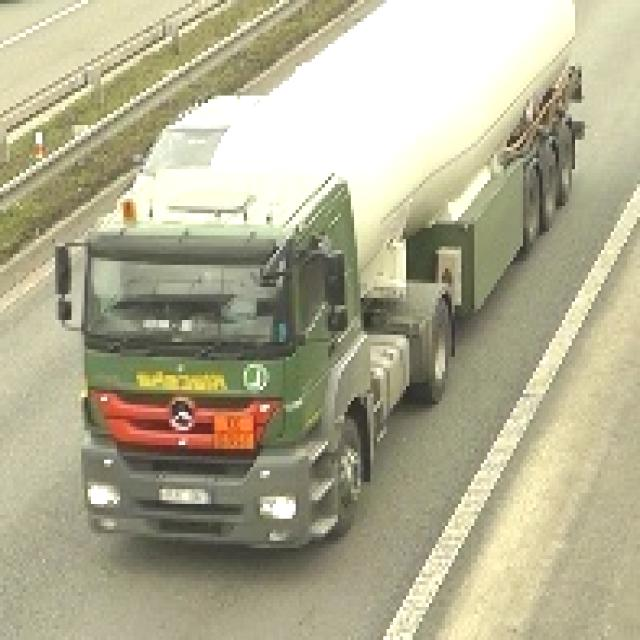TRUCK: (77, 3, 619, 565)
